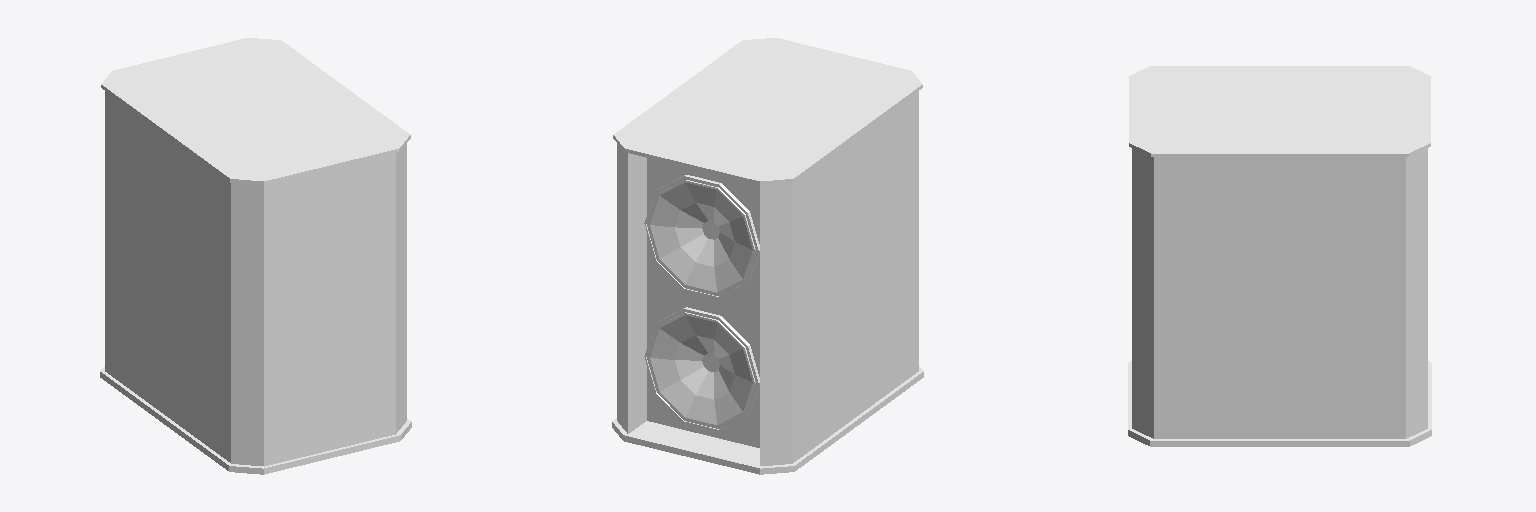
Rendered from BandSpeaker.obj.
3 views of the same model, side by side, from view 1: azimuth 30°, elevation 25°; view 2: azimuth 150°, elevation 25°; view 3: azimuth 270°, elevation 25° (orthographic).
Parts seen in each view (by area): view 1: Cube; view 2: Cube; view 3: Cube.
Boxes of the visible parts, <box> form: Cube: <box>100,38,411,474</box>; Cube: <box>612,38,923,474</box>; Cube: <box>1128,66,1431,446</box>.
Bounding box in the file's own units: 0.4834 × 0.7406 × 0.6972.